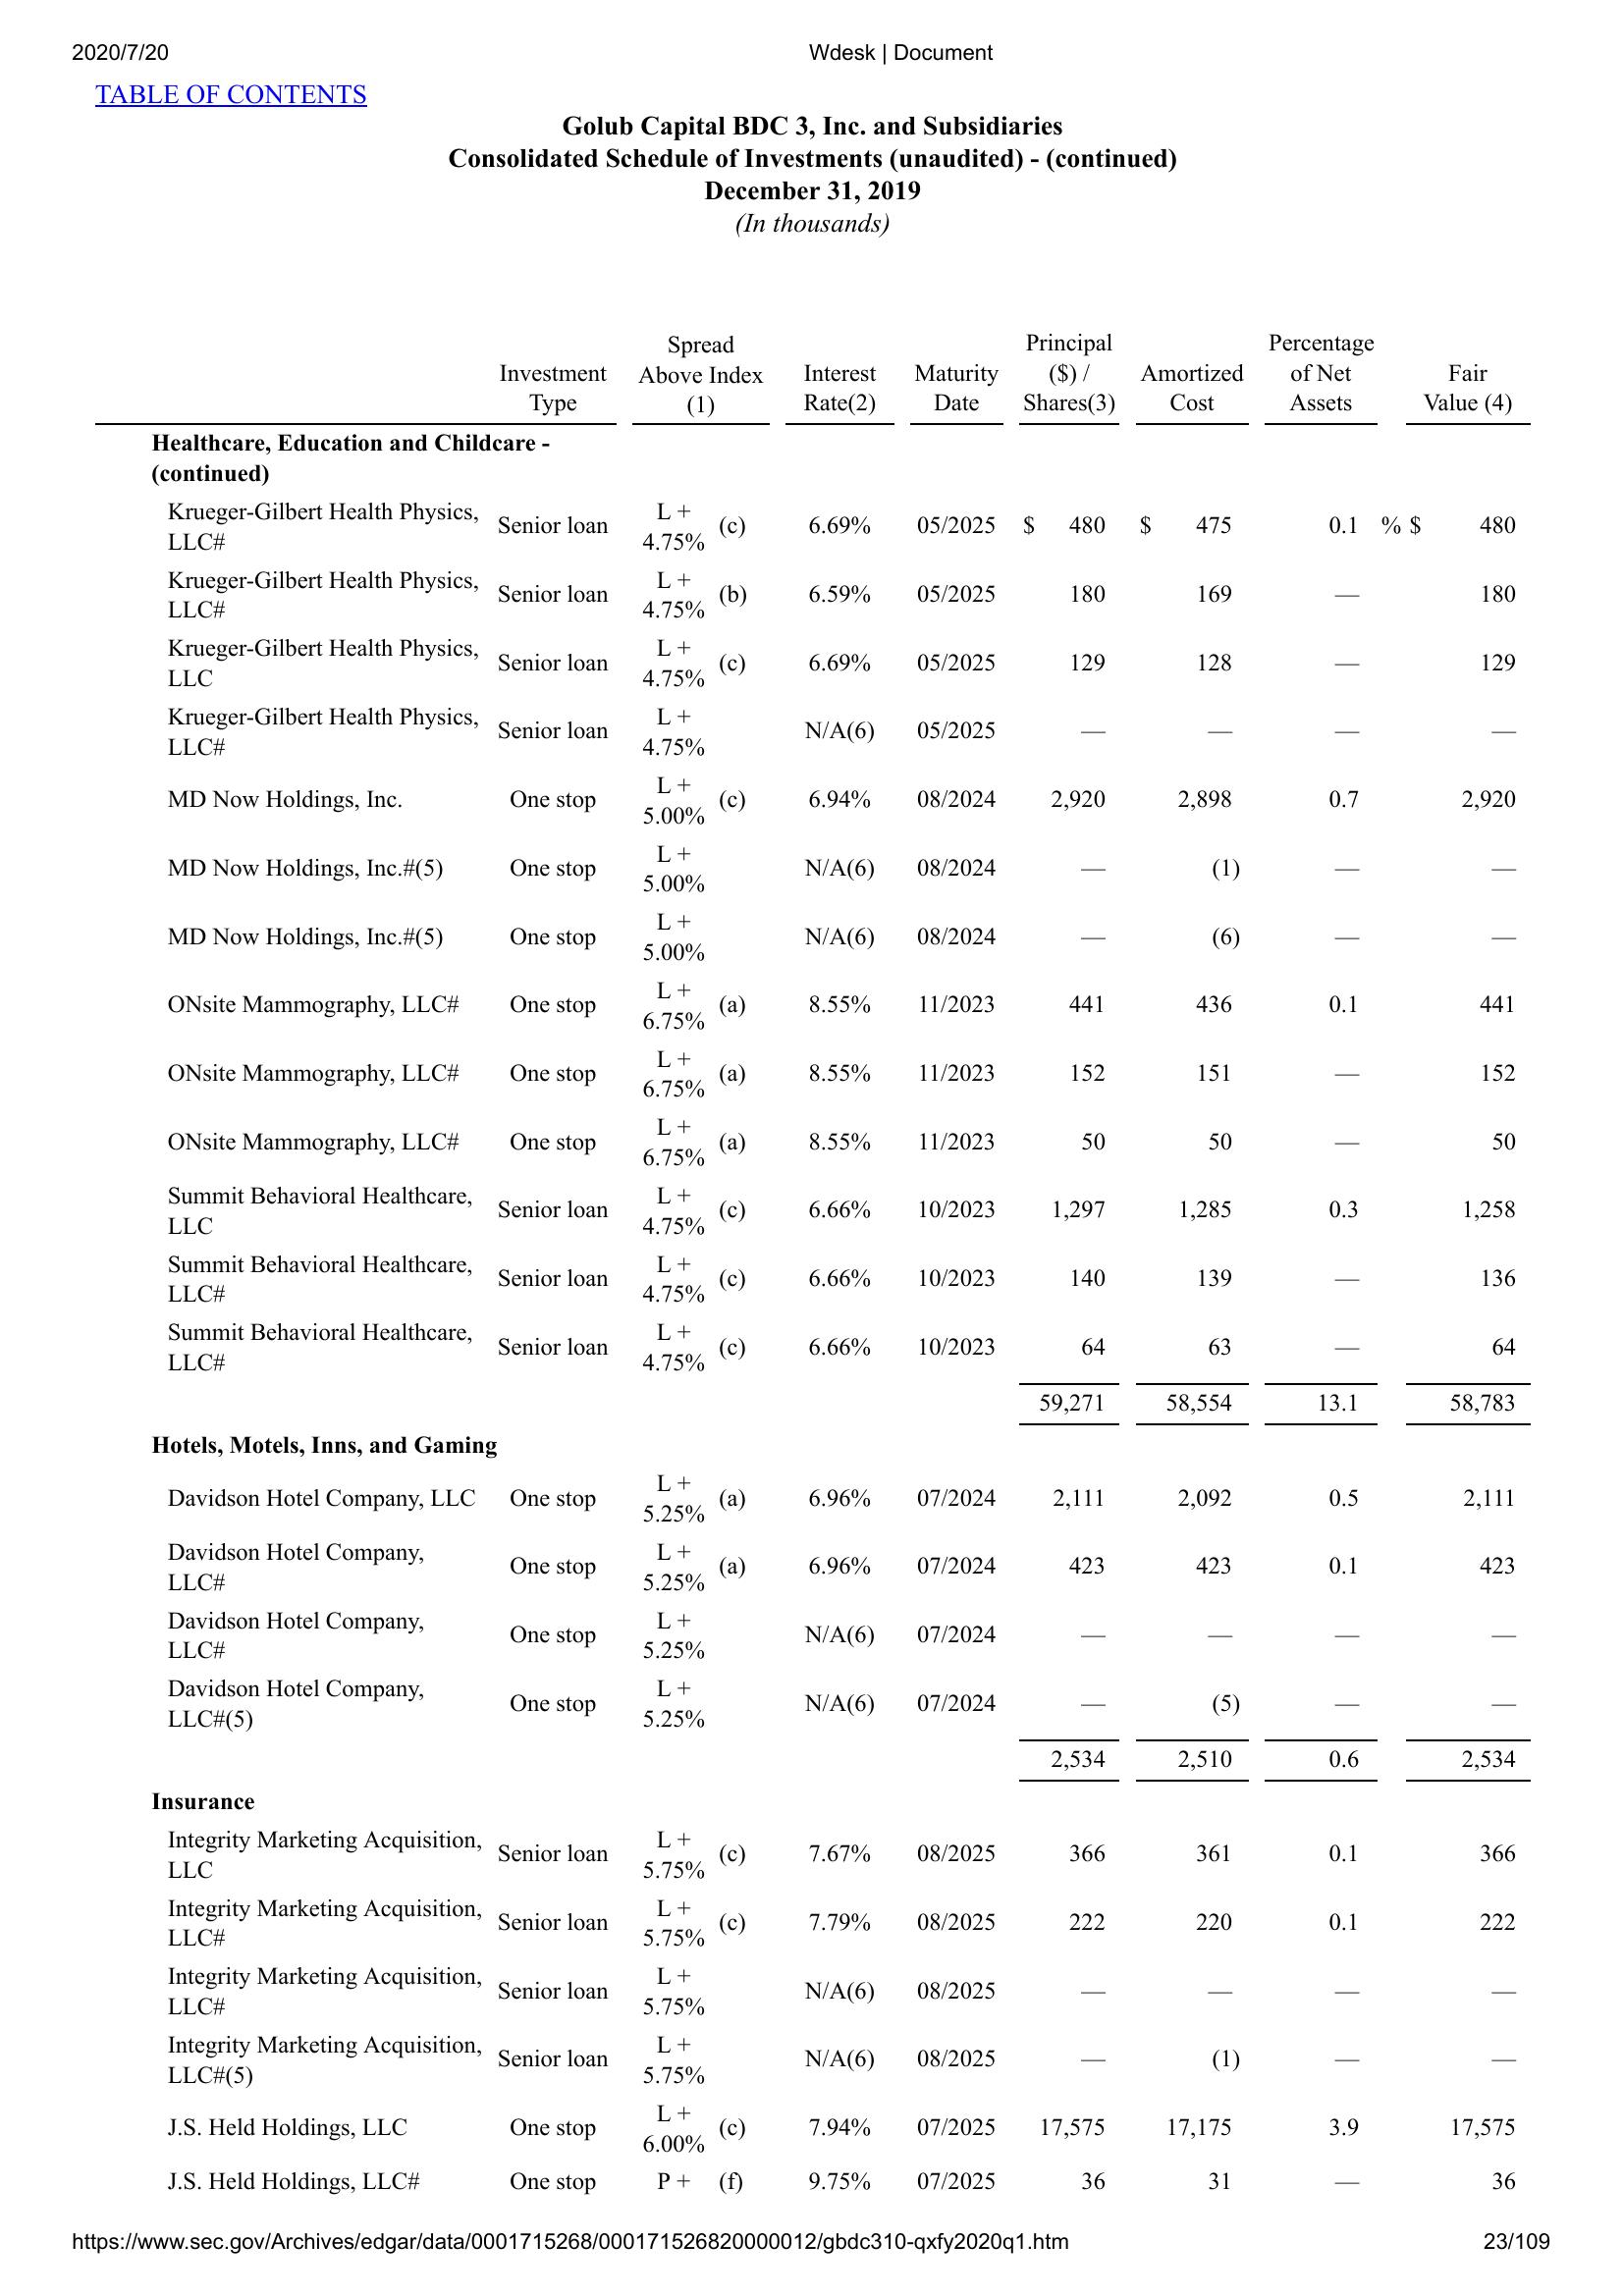table: (95, 328, 1542, 2201)
